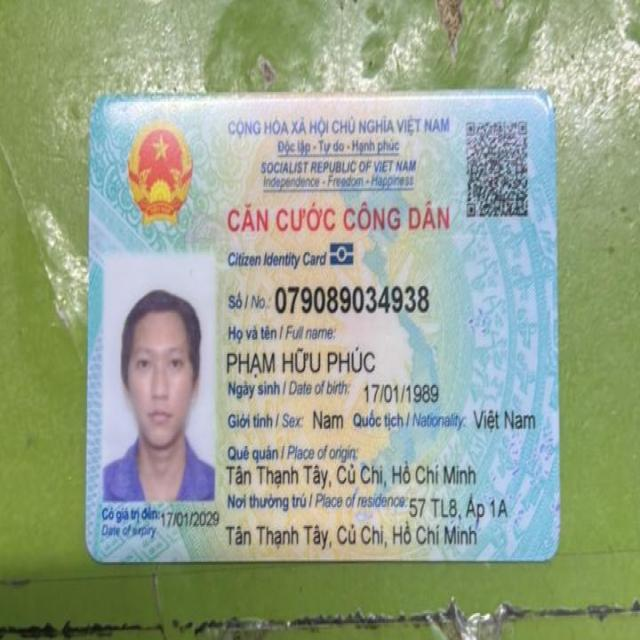bottom_left: (66, 530, 118, 578)
bottom_right: (526, 530, 570, 578)
image_person: (105, 256, 218, 500)
top_left: (78, 78, 124, 133)
top_right: (518, 74, 570, 130)
